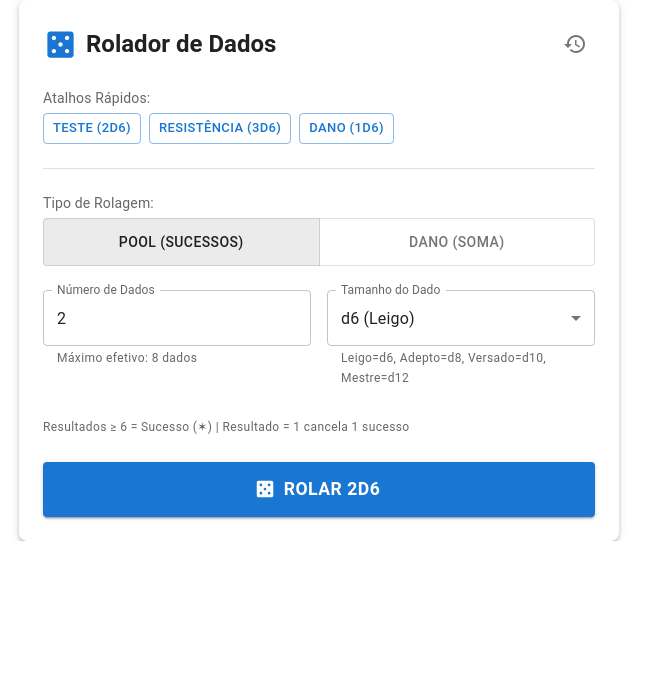
DiceRoller › History Panel › should toggle history panel when button clicked
Click the button named "abrir histórico de rolagens".
click(575, 44)  # box [555,24,595,64]
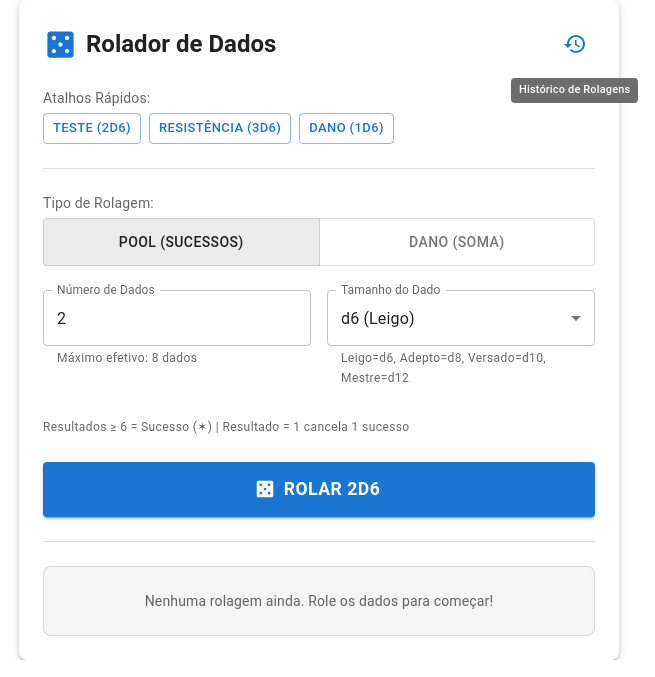
Expected: the text "Histórico de Rolagens" is shown, [511,78,638,102]
